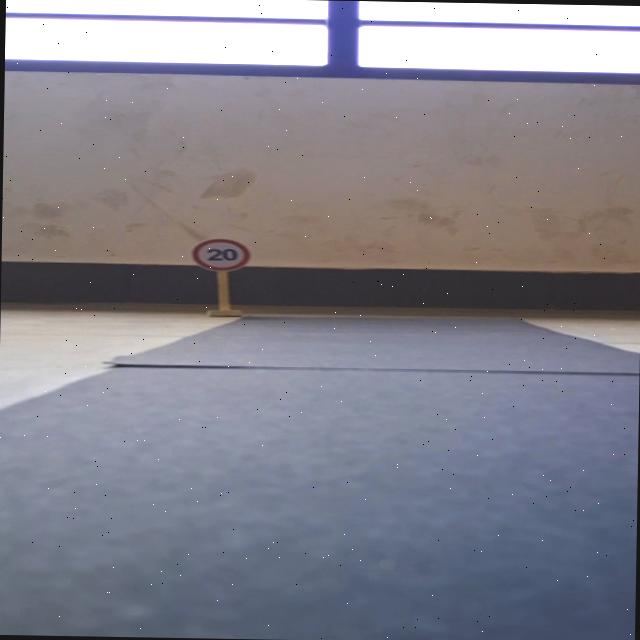Speed20: (183, 232, 256, 276)
